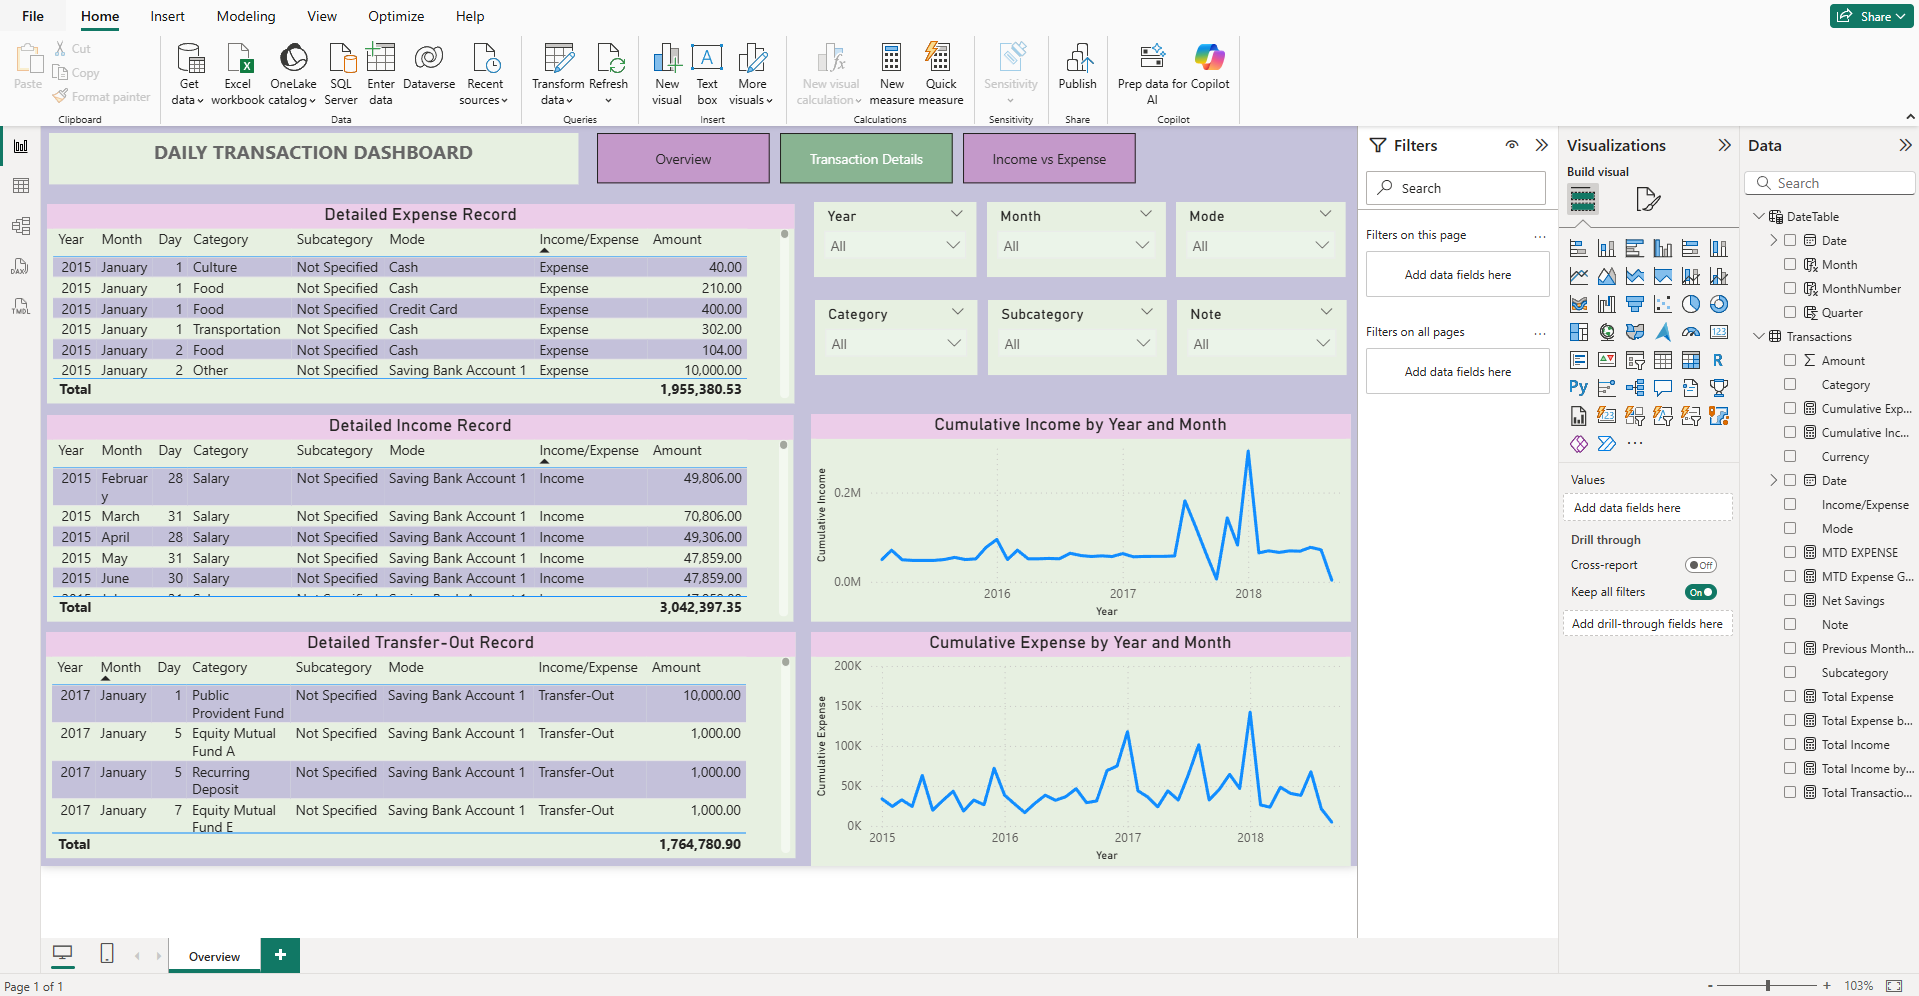

Layout of this report page (visuals, bound fields, positions):
{"tool":"powerbi","page":{"name":"Overview","canvas":[1280,720],"ordinal":0},"visuals":[{"type":"lineChart","title":"Monthly Trend of Income and Expense","fields":{"Y":["Transactions.Total Income"],"Y2":["Transactions.Total Expense"],"Category":["Transactions.Date.Variation.Date Hierarchy.Month"]},"box":[7.8,175.9,532,207.2],"z":0,"group":"g1"},{"type":"barChart","title":"Top 10 Expense Categories","fields":{"Category":["Transactions.Date.Variation.Date Hierarchy.Year"],"Y":["Transactions.Total Expense"],"Series":["Transactions.Category"]},"box":[914.6,392.8,365.4,320.3],"z":1000,"group":"g1"},{"type":"textbox","box":[7.8,6.8,514.5,49.6],"z":2000},{"type":"cardVisual","fields":{"Data":["Transactions.Total Income","Transactions.Total Expense","Transactions.Total Transactions","Transactions.Net Savings"]},"box":[7.8,66.1,796.6,103.1],"z":2000,"group":"g1"},{"type":"group","id":"g1","title":"Overview","box":[7.8,3.9,1272.2,710.7],"z":3000},{"type":"treemap","fields":{"Values":["Transactions.Total Expense"],"Group":["Transactions.Subcategory"]},"box":[553.5,175.9,512.6,207.2],"z":3000,"group":"g1"},{"type":"bookmarkNavigator","box":[540.7,6.7,526,49.6],"z":4000},{"type":"donutChart","fields":{"Y":["Transactions.Total Expense"],"Category":["Transactions.Mode"]},"box":[7.8,394,380.3,320],"z":4000,"group":"g1"},{"type":"donutChart","fields":{"Y":["Transactions.Total Expense"],"Category":["Transactions.Category"]},"box":[400.4,394.3,501.9,320.3],"z":5000,"group":"g1"},{"type":"slicer","fields":{"Values":["Transactions.Date.Variation.Date Hierarchy.Year"]},"box":[1076.7,3.9,194.5,68.8],"z":6000,"group":"g1"},{"type":"slicer","fields":{"Values":["Transactions.Date.Variation.Date Hierarchy.Month"]},"box":[1076.7,79.5,194.5,68.8],"z":7000,"group":"g1"},{"type":"slicer","fields":{"Values":["Transactions.Category"]},"box":[1076.7,231.8,194.5,68.8],"z":8000,"group":"g1"},{"type":"slicer","fields":{"Values":["Transactions.Subcategory"]},"box":[1076.7,314.3,194.5,68.8],"z":9000,"group":"g1"},{"type":"slicer","fields":{"Values":["Transactions.Amount"]},"box":[820,71,246.1,93.4],"z":10000,"group":"g1"},{"type":"slicer","fields":{"Values":["Transactions.Mode"]},"box":[1076.7,155.2,194.5,68.8],"z":11000,"group":"g1"}]}

Visuals, with their boxes on the page's 1280x720 design canvas (x1, y1, x2, y2). These are canvas units, not pixel positions in the 1919x996 screenshot, which may show the page scaled, cropped or inside an application window:
"Monthly Trend of Income and Expense" lineChart: locate(8, 176, 540, 383)
"Top 10 Expense Categories" barChart: locate(915, 393, 1280, 713)
textbox: locate(8, 7, 522, 56)
cardVisual - Transactions.Total Income x Transactions.Total Expense: locate(8, 66, 804, 169)
"Overview" group: locate(8, 4, 1280, 715)
treemap - Transactions.Total Expense x Transactions.Subcategory: locate(554, 176, 1066, 383)
bookmarkNavigator: locate(541, 7, 1067, 56)
donutChart - Transactions.Total Expense x Transactions.Mode: locate(8, 394, 388, 714)
donutChart - Transactions.Total Expense x Transactions.Category: locate(400, 394, 902, 715)
slicer - Transactions.Date.Variation.Date Hierarchy.Year: locate(1077, 4, 1271, 73)
slicer - Transactions.Date.Variation.Date Hierarchy.Month: locate(1077, 80, 1271, 148)
slicer - Transactions.Category: locate(1077, 232, 1271, 301)
slicer - Transactions.Subcategory: locate(1077, 314, 1271, 383)
slicer - Transactions.Amount: locate(820, 71, 1066, 164)
slicer - Transactions.Mode: locate(1077, 155, 1271, 224)
